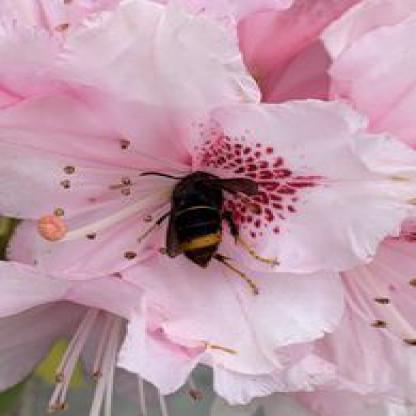Asian Hornet: (142, 152, 272, 282)
